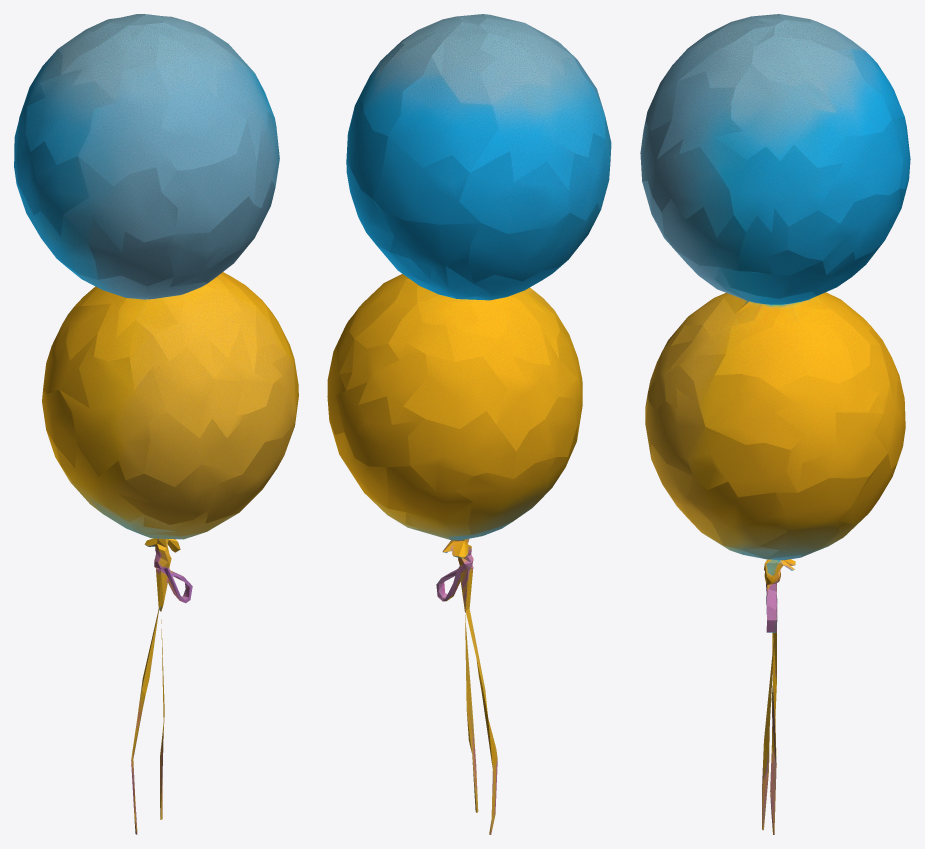
The model's file is balloons.glb.
The picture shows the model from 3 angles, left to right: view 1: azimuth 30°, elevation 25°; view 2: azimuth 150°, elevation 25°; view 3: azimuth 270°, elevation 25°; orthographic projection.
Bounding box in the file's own units: 0.6149 × 1.9 × 0.5717.
1 material, 1 textured.
